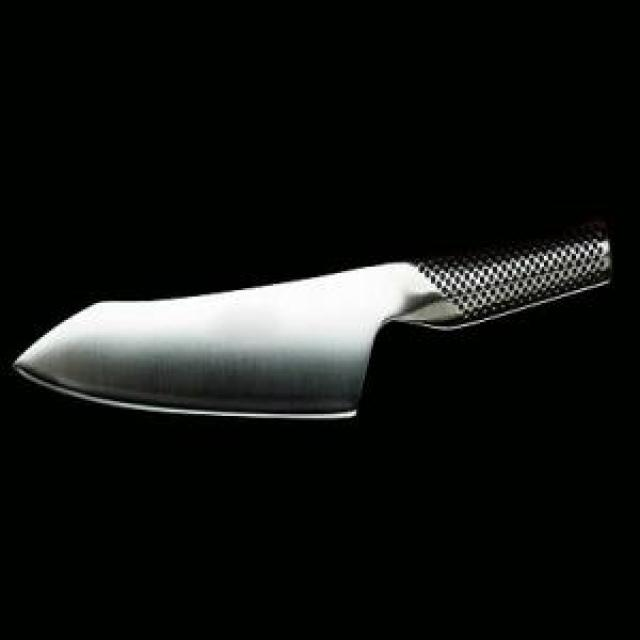knife: (13, 216, 615, 454)
